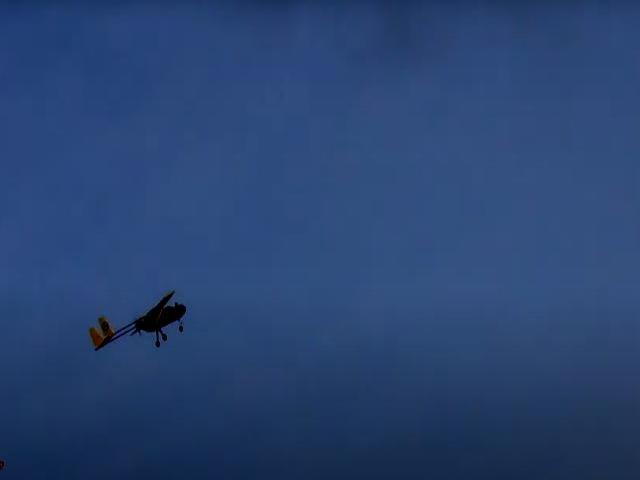iha: (82, 281, 195, 350)
